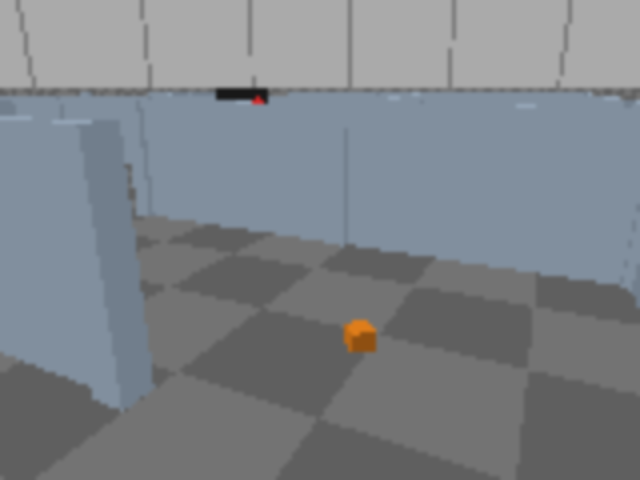puck: (344, 320, 375, 354)
